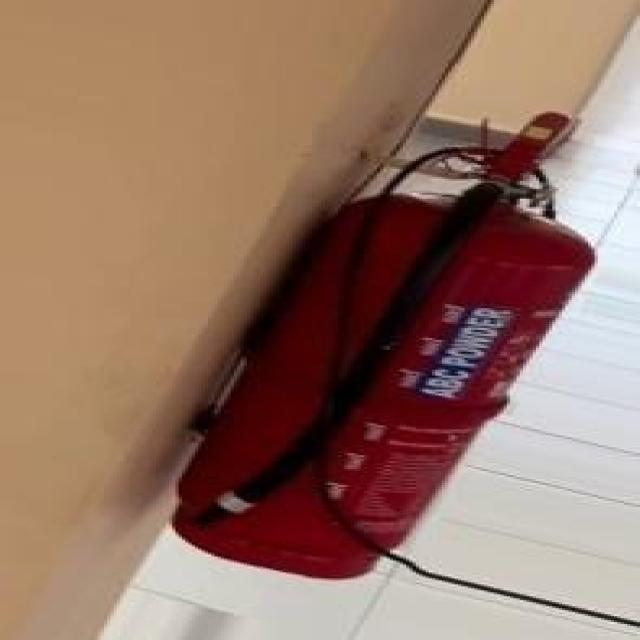fire_extinguisher: (154, 106, 603, 582)
